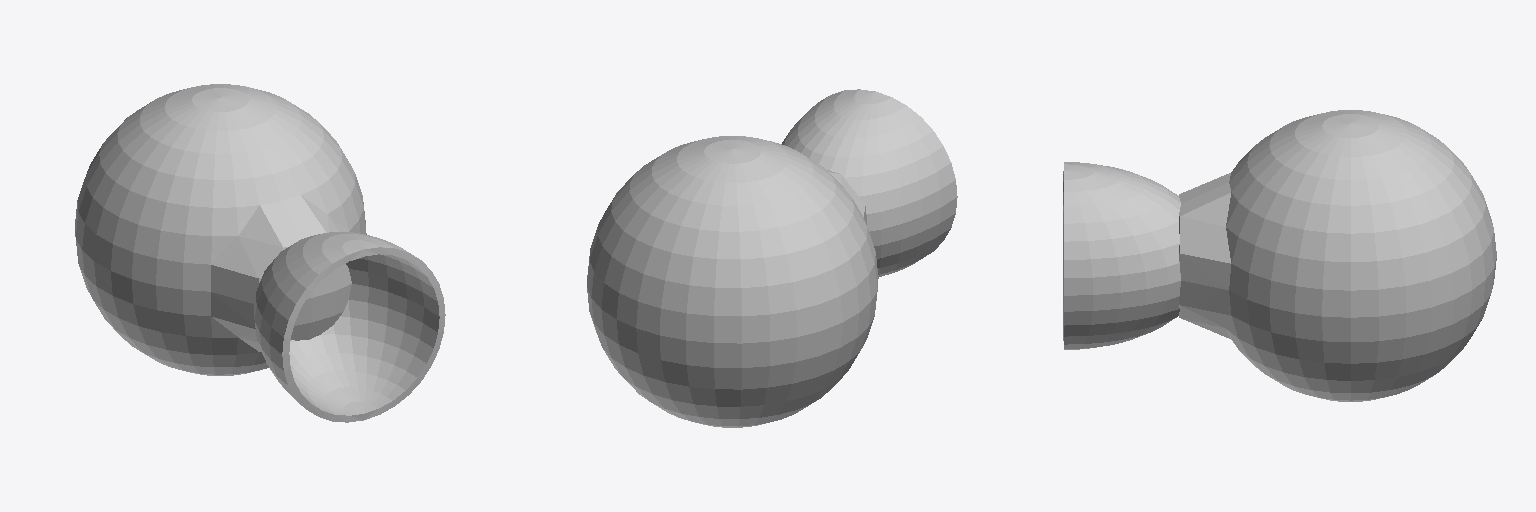
Rendered from modapi.obj.
The picture shows the model from 3 angles: view 1: azimuth 30°, elevation 25°; view 2: azimuth 150°, elevation 25°; view 3: azimuth 270°, elevation 25°; orthographic projection.
Visible parts, largest first — view 1: 구체.001, 구체.002; view 2: 구체.001, 구체.002; view 3: 구체.001, 구체.002.
Part boxes in pixels (x1,y1,x2,y2): 구체.001: (75, 84, 366, 375); 구체.002: (253, 232, 445, 422); 구체.001: (587, 136, 878, 427); 구체.002: (782, 89, 957, 276); 구체.001: (1179, 110, 1496, 401); 구체.002: (1063, 162, 1180, 349).
Size of the model in its own units: 0.5947 by 0.5947 by 0.8821.